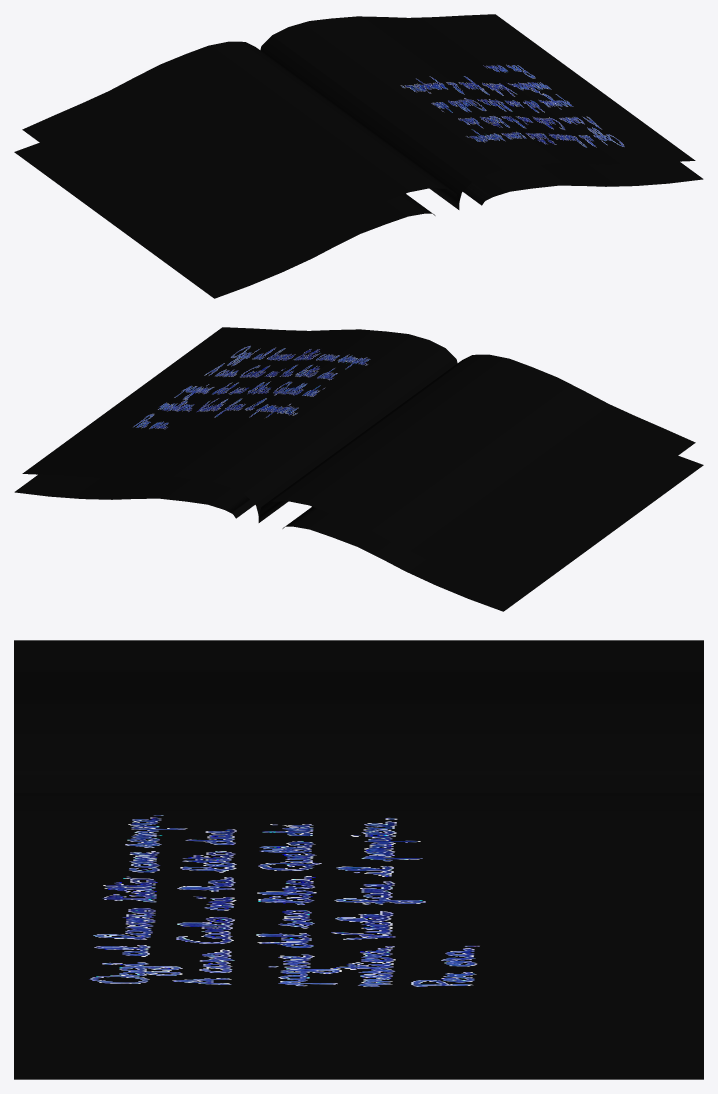
File: pages-past.glb
3 renders of one model, top to bottom at view 1: azimuth 30°, elevation 25°; view 2: azimuth 150°, elevation 25°; view 3: azimuth 270°, elevation 25°, orthographic. The views are drawn at different scales.
Visible parts, largest first — view 1: content_past; view 2: content_past; view 3: content_past.
Boxes of the visible parts, left/top/right/bottom form: content_past: left=14, top=14, right=703, bottom=298; content_past: left=14, top=327, right=703, bottom=611; content_past: left=14, top=640, right=703, bottom=1079.
Size of the model in its own units: 1.2 by 0.1378 by 0.8492.
Materials: 1 (1 with a texture image).
